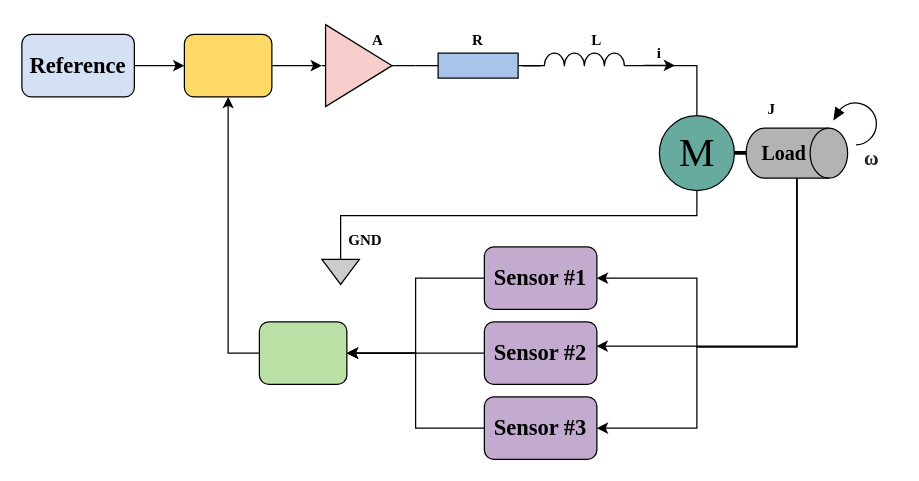
The diagram is 919 pixels wide and 481 high, and some of its shapes have lost their labels. Here are the shapes that lost their labels. From the top down, the box of each, then its label:
(183, 33, 272, 97): PID
(258, 321, 347, 384): Voter
